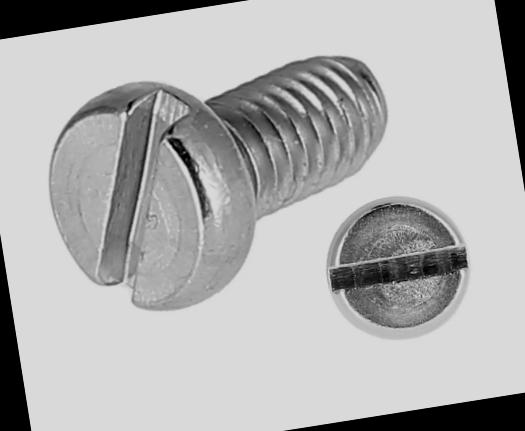slotted: (30, 62, 270, 328)
